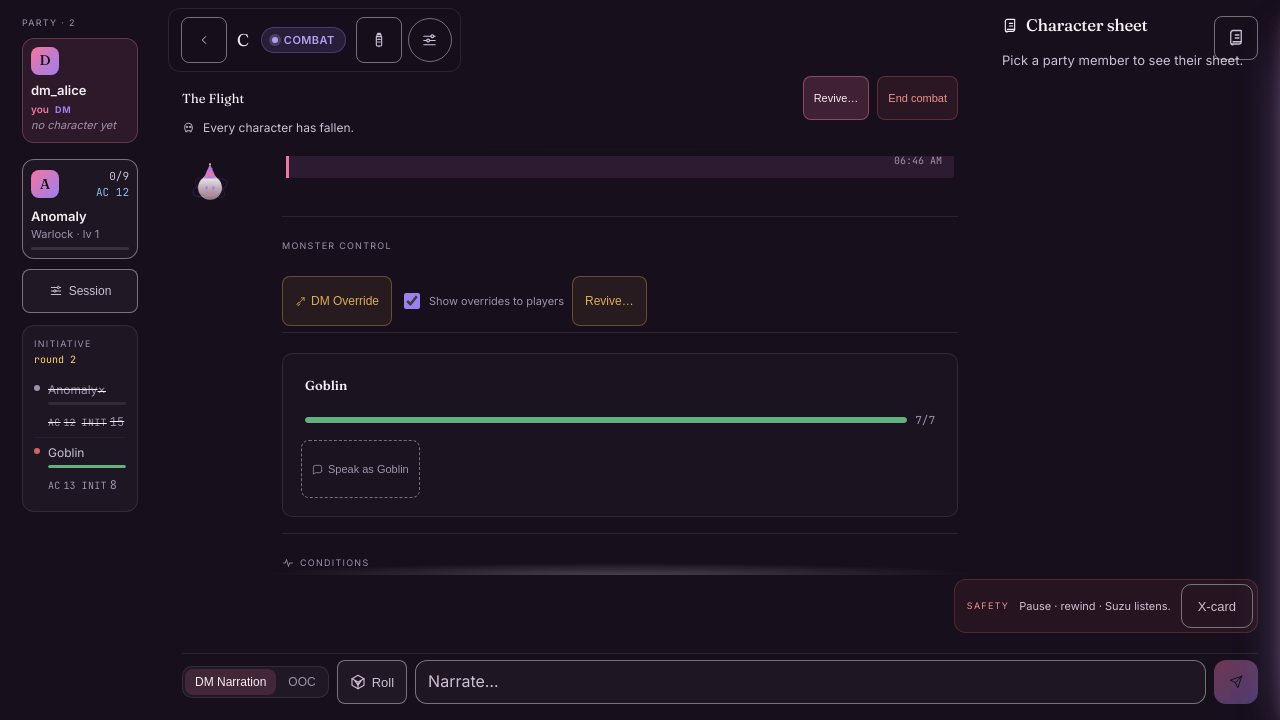
R4-1 (Iro MINOR-6): a failed End is announced once: the confirm owns its error, the generic chooser keeps its toast › the held confirm: the in-dialog alert, and NO toast
(page scrolled)
Expected: the text "Every character has fallen." is shown, [182,120,354,135]
What coordinates should you click on to do the following:
click the button "End combat"
I would click on:
 (918, 98)
Its box is [877,76,958,120].
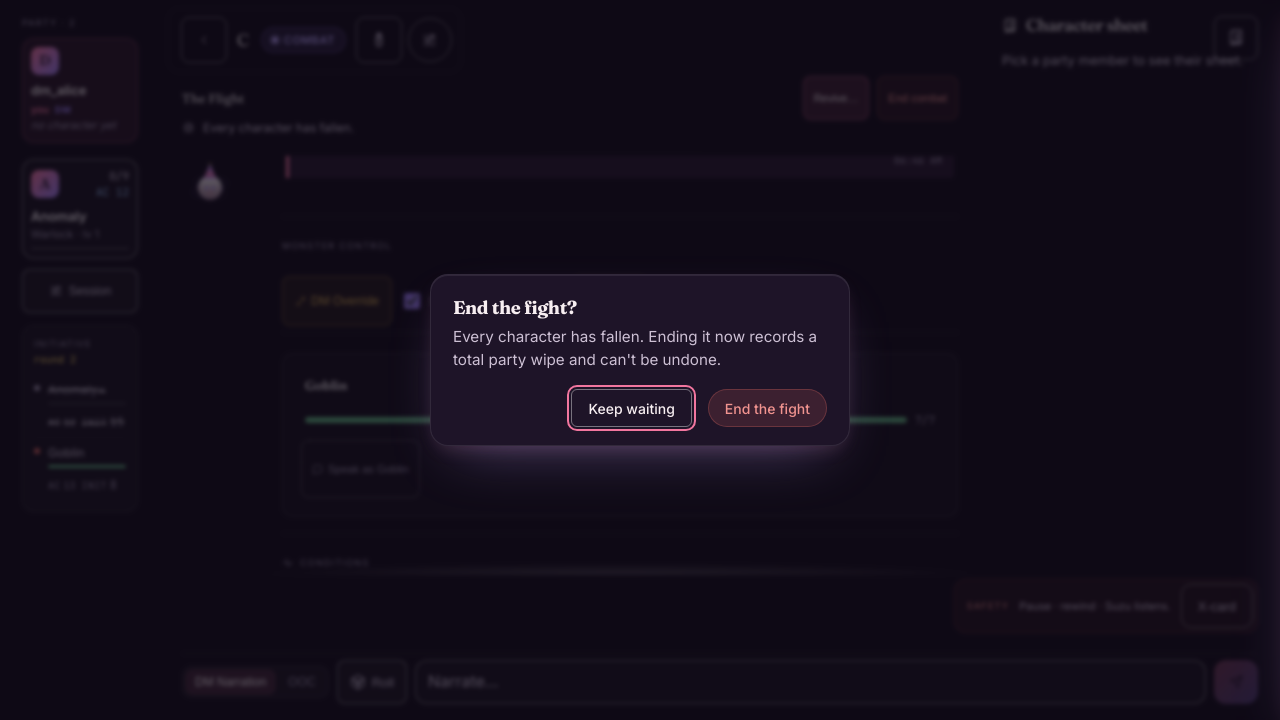
What coordinates should you click on to do the following:
click the button "End the fight"
I would click on:
 (767, 408)
Its box is [708,389,827,427].
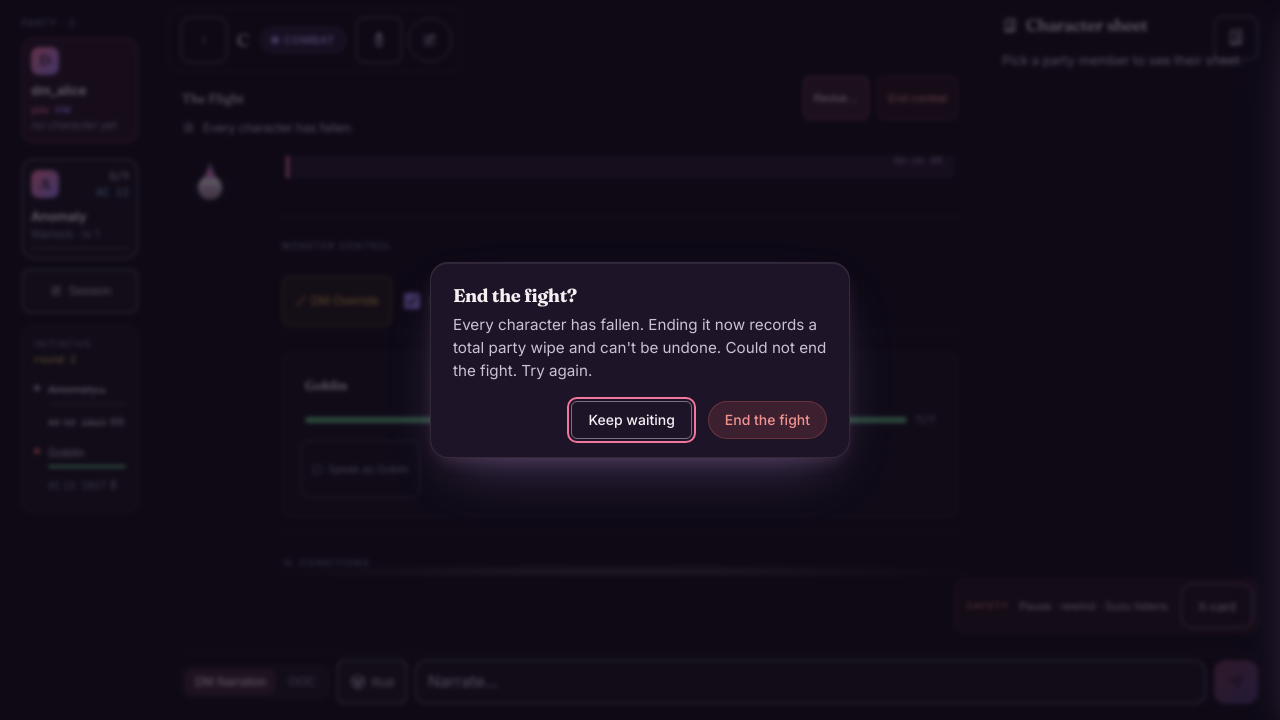
Expected: the message reads "Could not end the fight. Try again.", [453,338,826,380]
